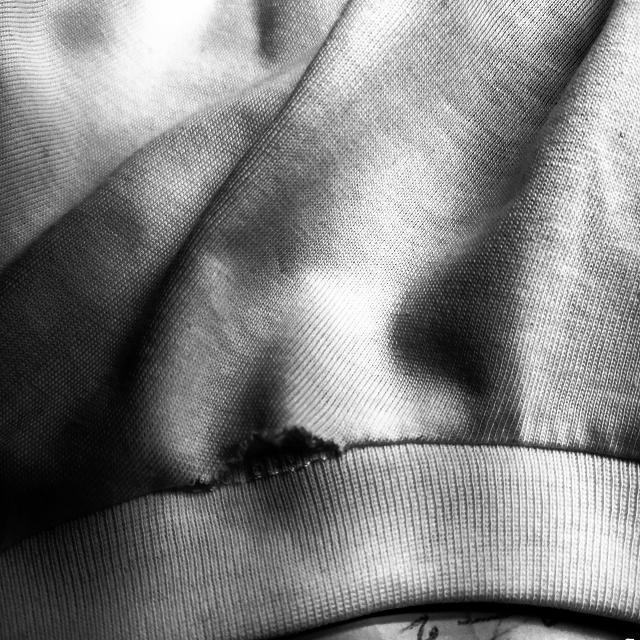Hole: (175, 421, 356, 493)
